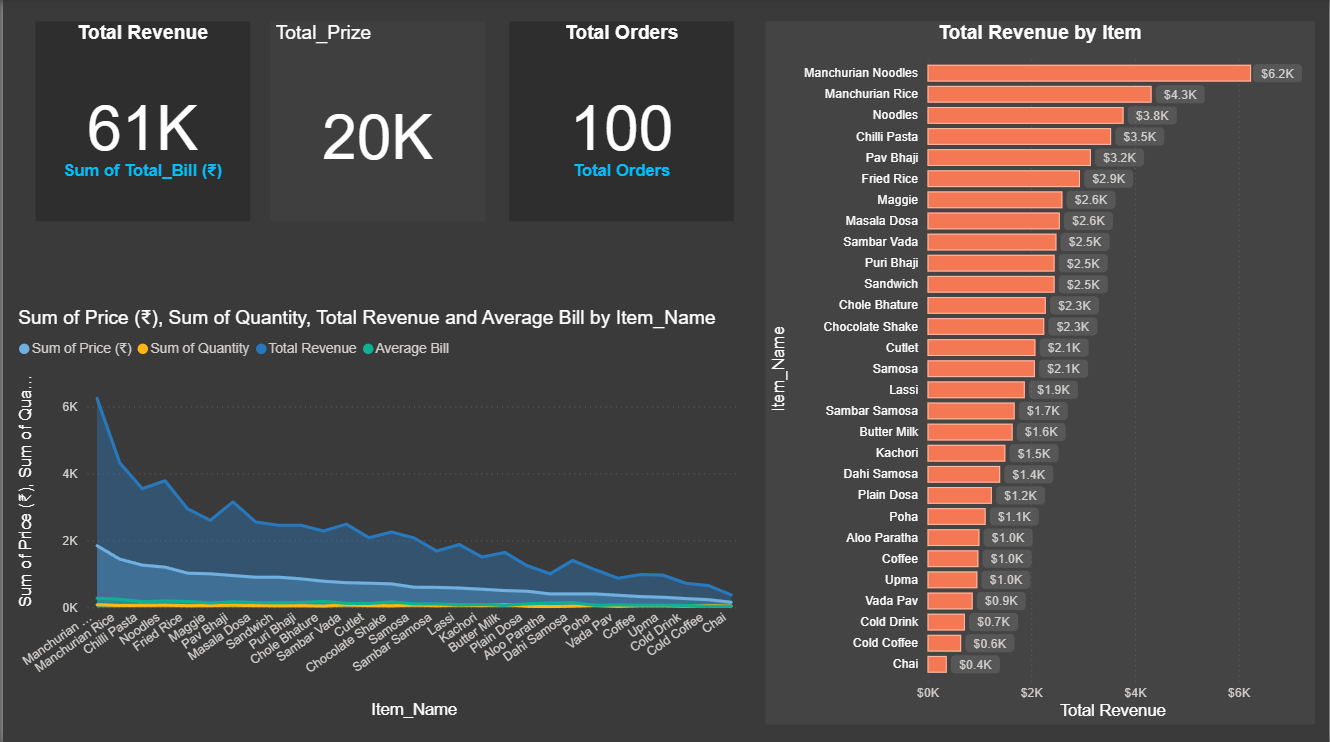

The dashboard page shown, as its layout file describes it:
{"tool":"powerbi","page":{"name":"Sales and Revenue","canvas":[1280,720],"ordinal":0},"visuals":[{"type":"card","title":"Total Revenue","fields":{"Values":["Sum(Customer_Billing.Total_Bill (₹))"]},"box":[31.4,21.4,207.1,192.9],"z":0},{"type":"card","title":"Total Orders","fields":{"Values":["Customer_Billing.Total Orders"]},"box":[488.6,21.4,217.1,192.9],"z":1000},{"type":"clusteredBarChart","title":"Total Revenue by Item","fields":{"Category":["Customer_Billing.Item_Name"],"Y":["Customer_Billing.Total Revenue"]},"box":[735.7,21.4,530,678.6],"z":2000},{"type":"areaChart","fields":{"Y":["Sum(Customer_Billing.Price (₹))","Sum(Customer_Billing.Quantity)","Customer_Billing.Total Revenue","Customer_Billing.Average Bill"],"Category":["Customer_Billing.Item_Name"]},"box":[10,297.1,707.1,402.9],"z":3000},{"type":"card","title":"Total_Prize","fields":{"Values":["Sum(Customer_Billing.Price (₹))"]},"box":[258.6,21.4,207.1,192.9],"z":5000}]}

Visuals, with their boxes in screenshot pixels (x1, y1, x2, y2), scaled from the page's 1280x720 canvas onto the 1330x742 screenshot:
"Total Revenue" card: l=33, t=22, r=248, b=221
"Total Orders" card: l=508, t=22, r=733, b=221
"Total Revenue by Item" clusteredBarChart: l=764, t=22, r=1315, b=721
areaChart - Sum(Customer_Billing.Price (₹)) x Sum(Customer_Billing.Quantity): l=10, t=306, r=745, b=721
"Total_Prize" card: l=269, t=22, r=484, b=221
